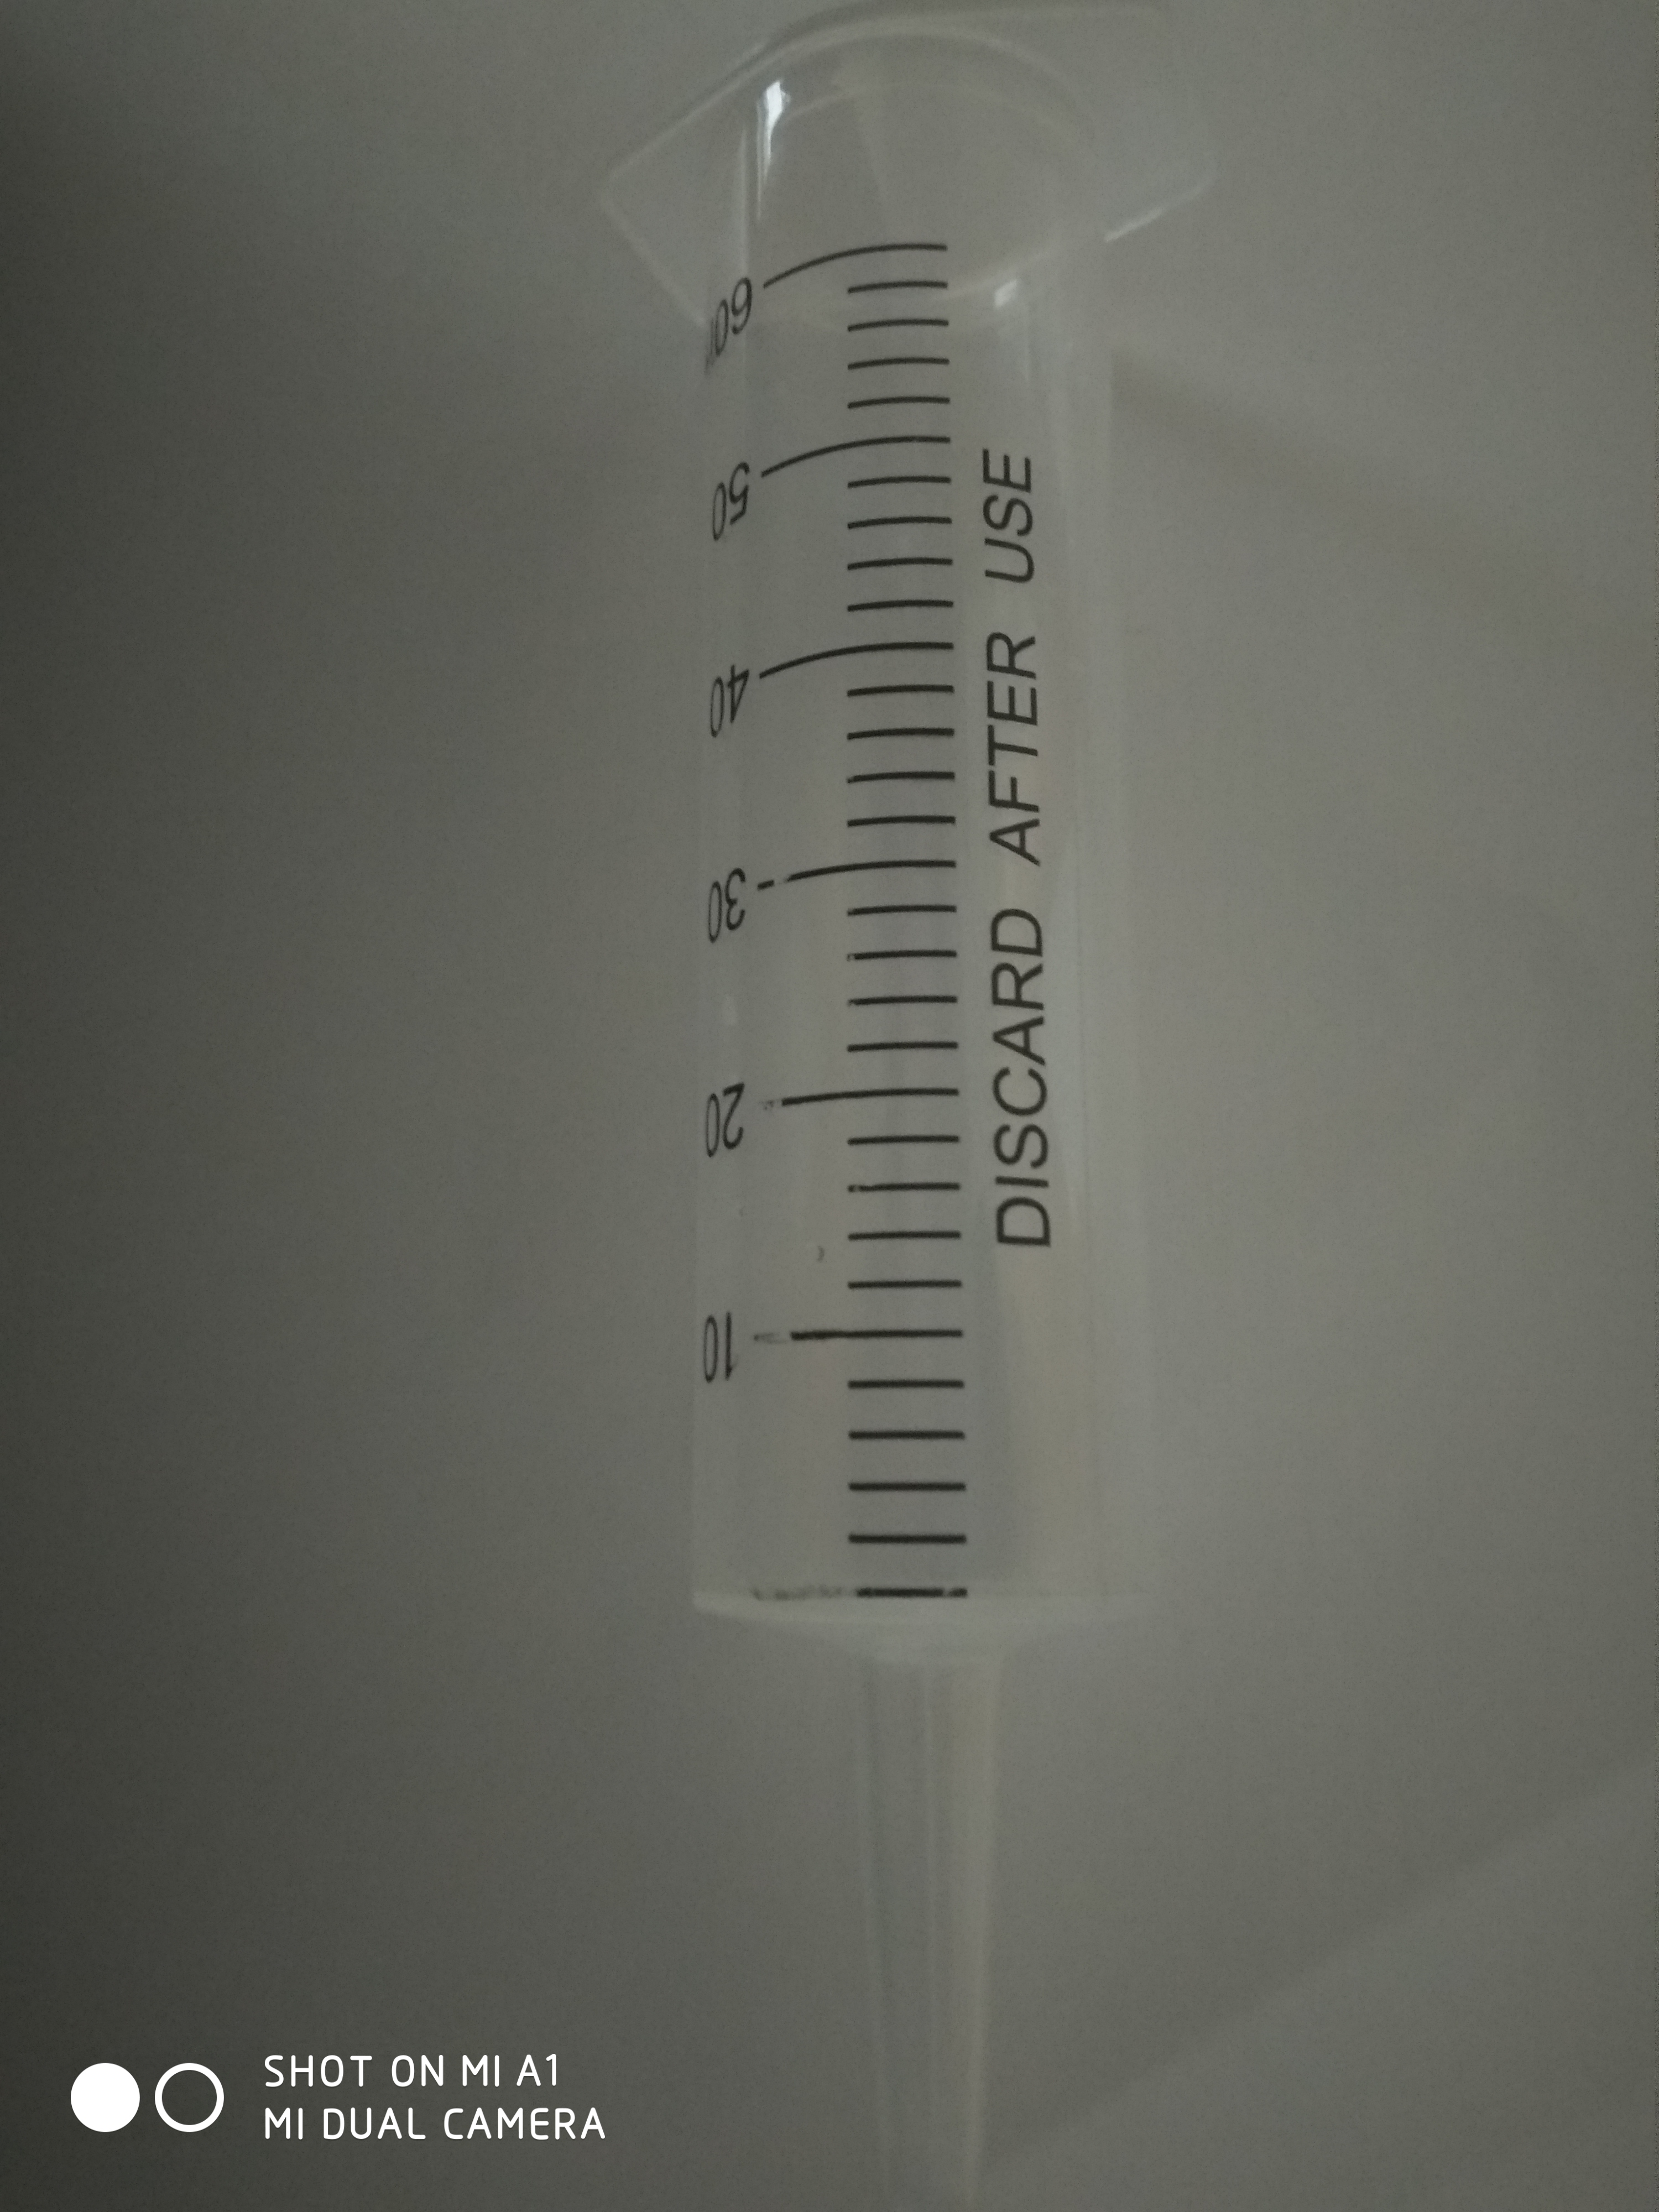syringe: (584, 19, 1216, 2207)
